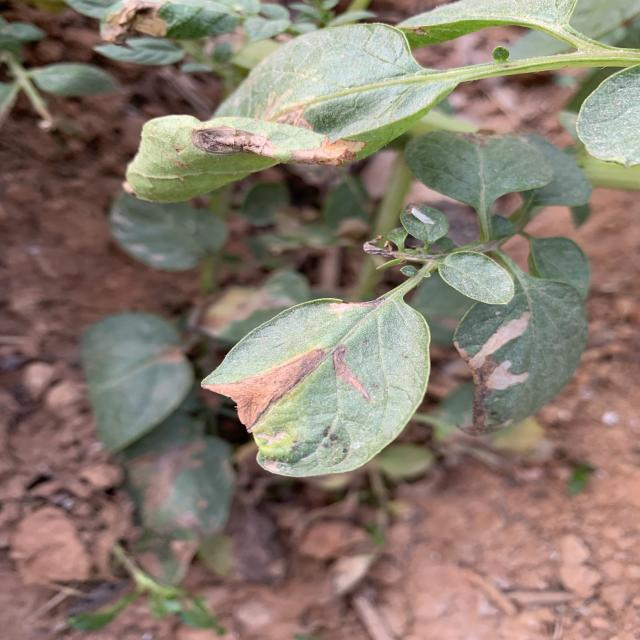lateblight: (203, 349, 327, 430), (192, 126, 275, 158), (333, 345, 370, 401)
